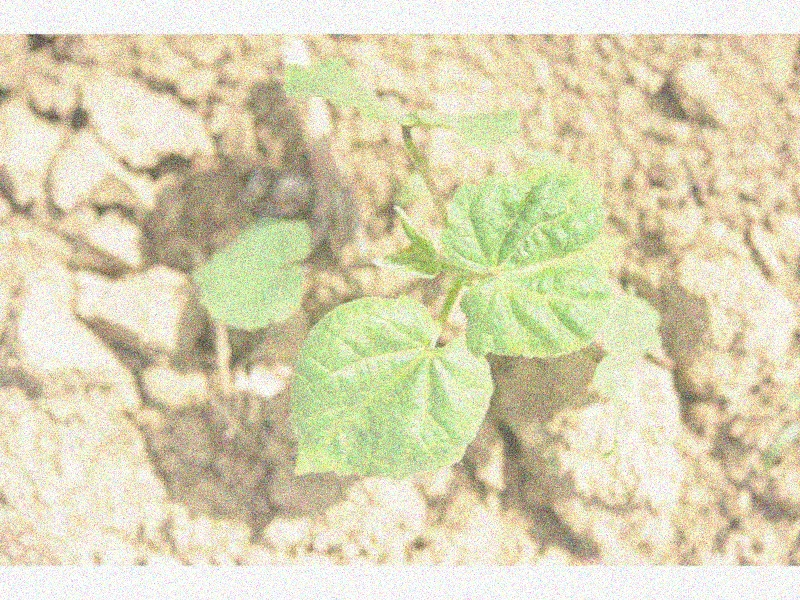velvet: (196, 52, 621, 478)
